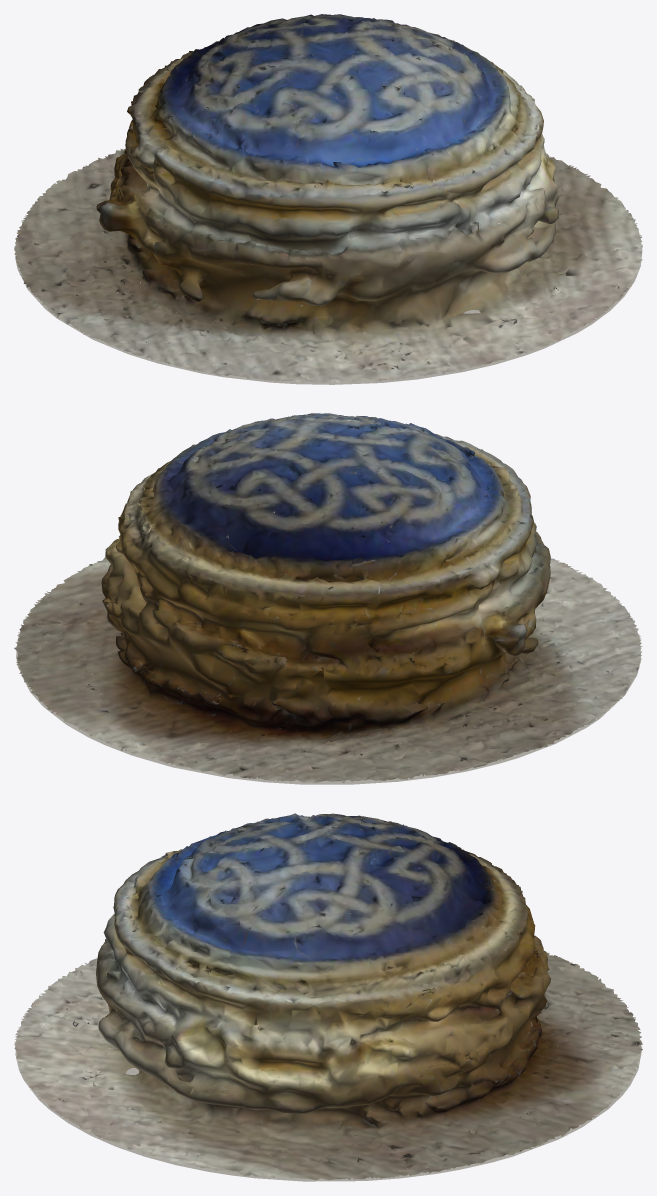
Rendered from joyero.glb.
3 views of the same model, one above another, from view 1: azimuth 30°, elevation 25°; view 2: azimuth 150°, elevation 25°; view 3: azimuth 270°, elevation 25° (orthographic).
Visible parts, largest first — view 1: objeto, base_rellenada; view 2: objeto, base_rellenada; view 3: objeto, base_rellenada.
Part boxes in pixels (x1,y1,x2,y2): objeto: (14, 14, 642, 383); base_rellenada: (15, 214, 642, 384); objeto: (14, 413, 642, 782); base_rellenada: (16, 616, 641, 784); objeto: (14, 813, 642, 1180); base_rellenada: (15, 995, 641, 1181).
Size of the model in its own units: 0.0591 by 0.0212 by 0.059.
2 materials, 1 textured.
